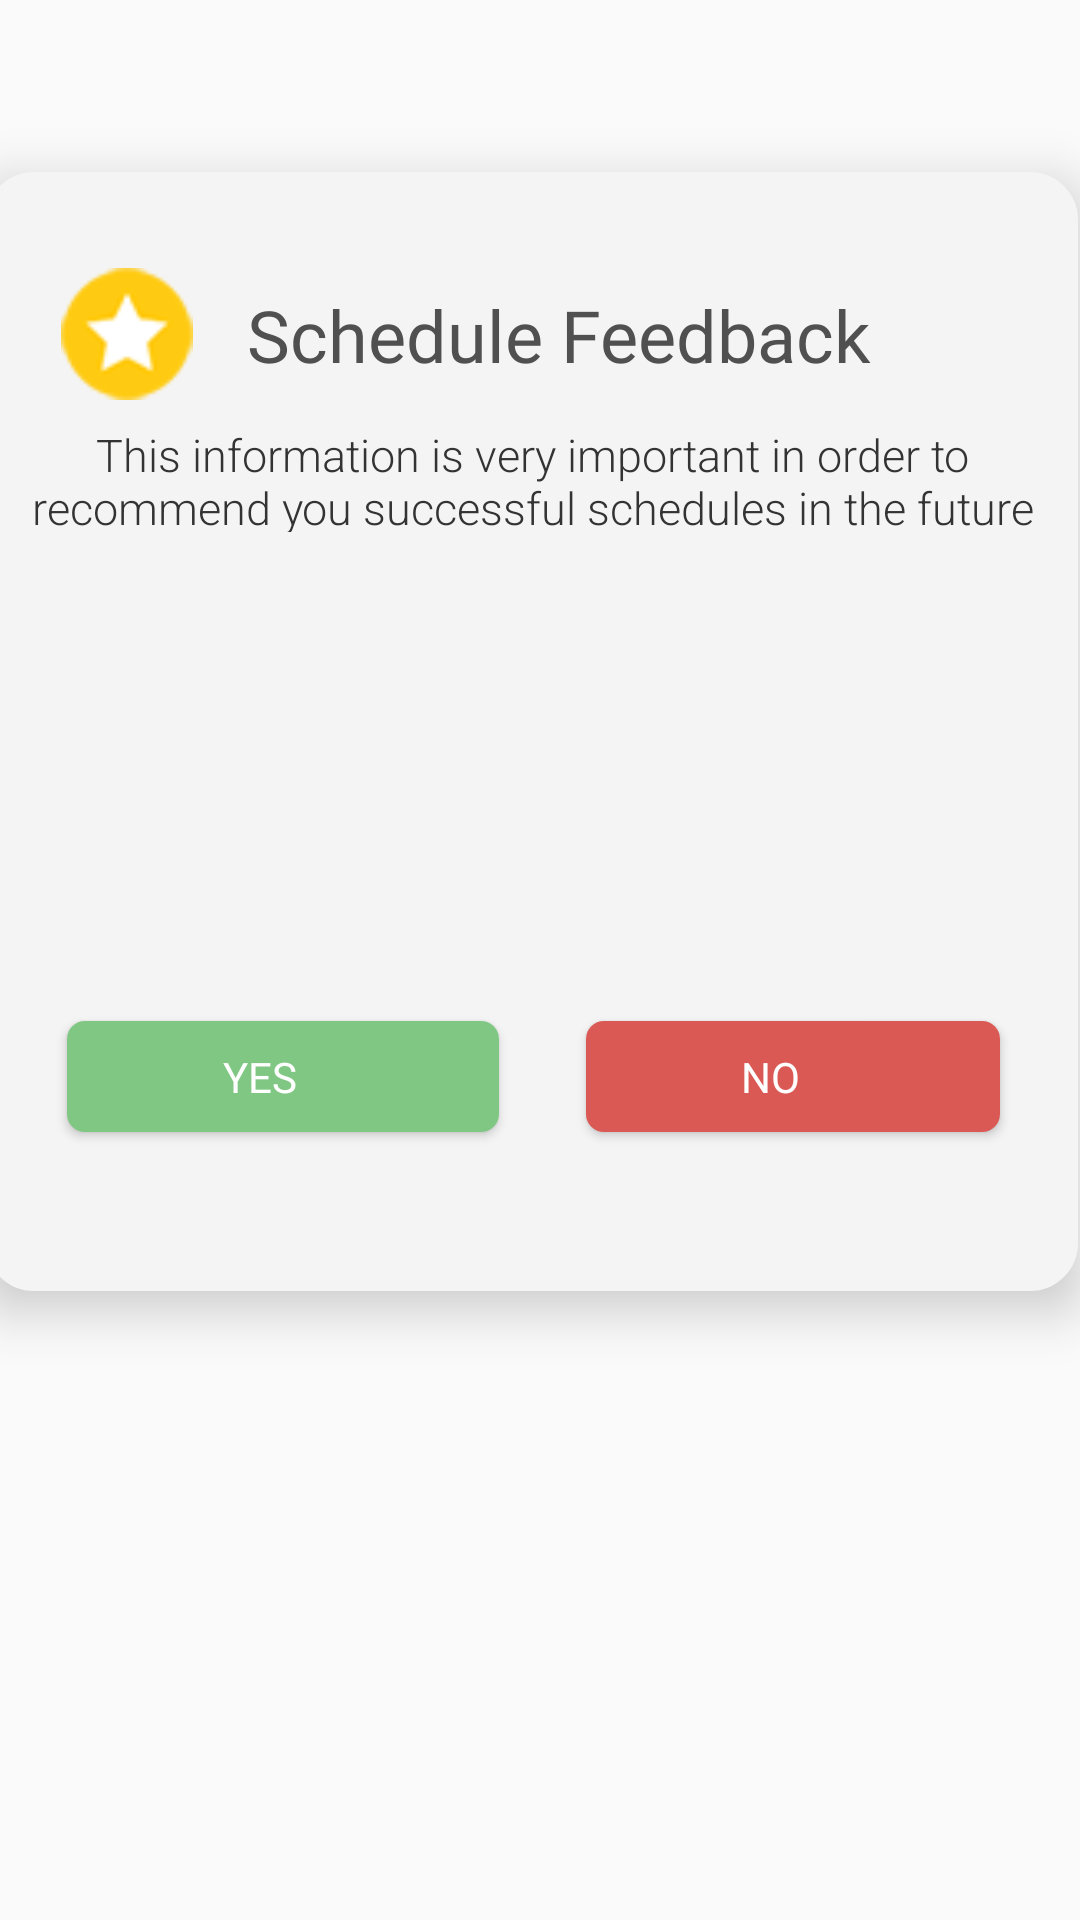

Point at icon controls on the screen. Image size 1080w x 1920h, points as (x=x, y=y).
rankit: (x=127, y=334)
